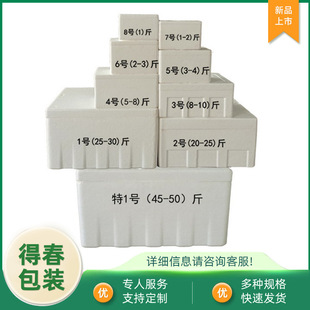Boxes: (47, 15, 256, 246)
